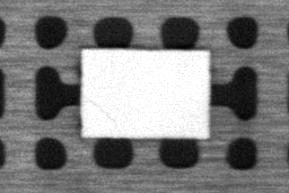DIE_CRACK: (86, 96, 115, 123)
